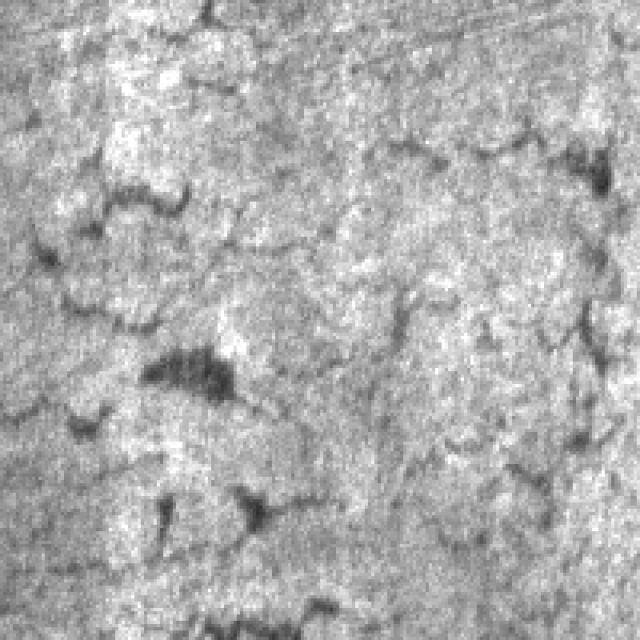crazing: (0, 218, 592, 460), (3, 0, 538, 208), (310, 285, 612, 627)
